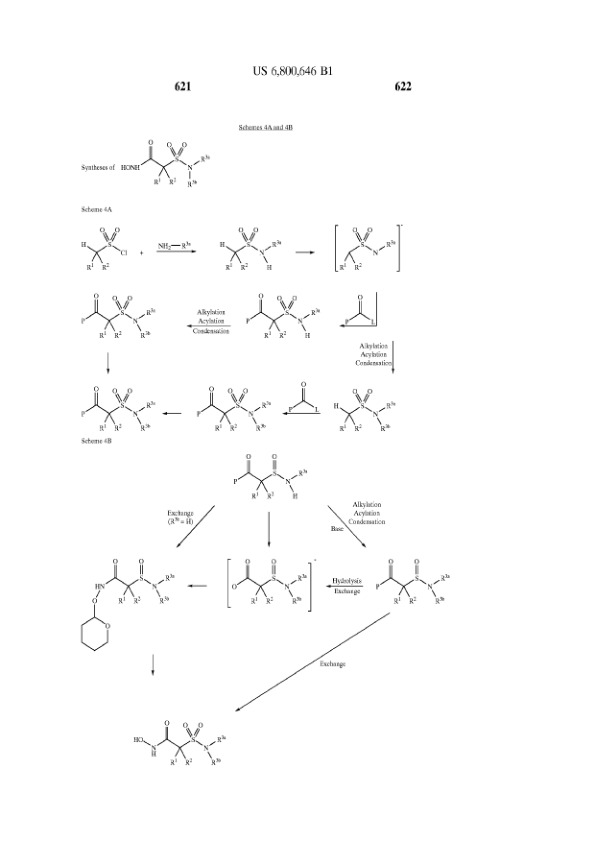compound-structure: (54, 555, 183, 651), (75, 136, 221, 193), (130, 706, 231, 774), (65, 288, 167, 347), (197, 380, 277, 450), (72, 384, 160, 445), (326, 219, 409, 282), (243, 289, 323, 349), (370, 556, 453, 610), (212, 219, 287, 275), (326, 388, 401, 441), (234, 453, 315, 502), (231, 560, 308, 610), (65, 224, 133, 277), (291, 378, 319, 411)
reaction: (40, 204, 595, 782)
reaction-arrow: (234, 613, 385, 730), (319, 495, 401, 549), (334, 289, 396, 337), (168, 499, 221, 549), (352, 339, 418, 379), (178, 297, 234, 340), (149, 235, 201, 263), (320, 574, 362, 604), (259, 511, 280, 551), (290, 239, 321, 262), (141, 655, 164, 675), (281, 411, 322, 420), (189, 578, 208, 592), (162, 408, 183, 418)
